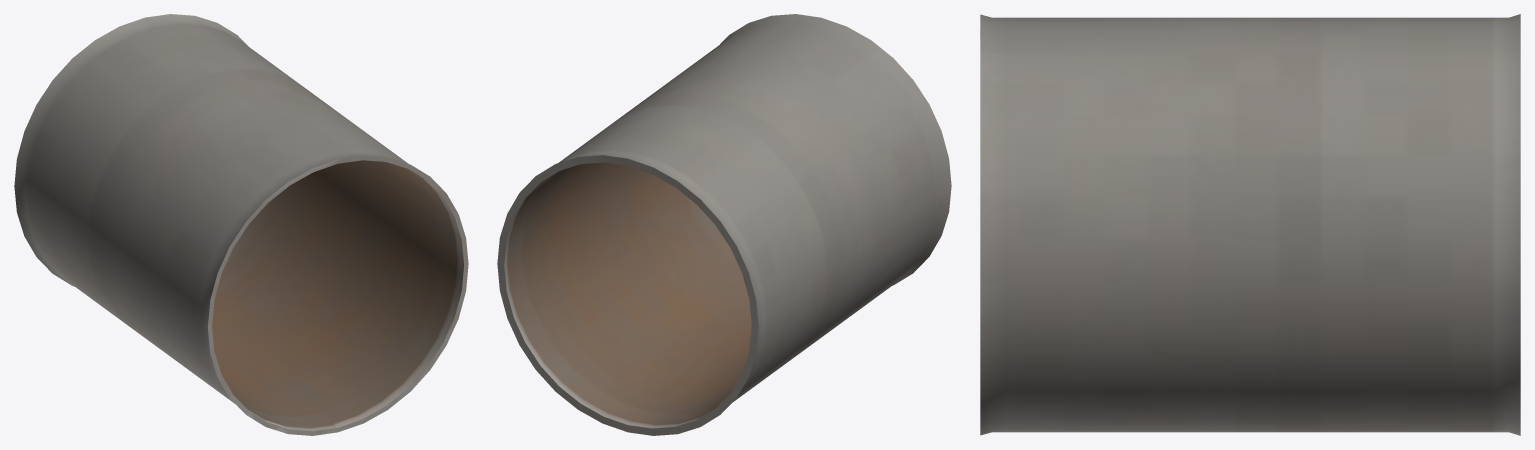
File: ductSmall.fbx
3 renders of one model, left to right at view 1: azimuth 30°, elevation 25°; view 2: azimuth 150°, elevation 25°; view 3: azimuth 270°, elevation 25°, orthographic. The views are drawn at different scales.
Visible parts, largest first — view 1: ductShort; view 2: ductShort; view 3: ductShort.
Boxes of the visible parts, x1,y1,x2,y2 form: ductShort: (14, 14, 468, 435); ductShort: (497, 14, 951, 435); ductShort: (980, 14, 1520, 435).
Bounding box in the file's own units: 0.3485 × 0.2723 × 0.2725.
